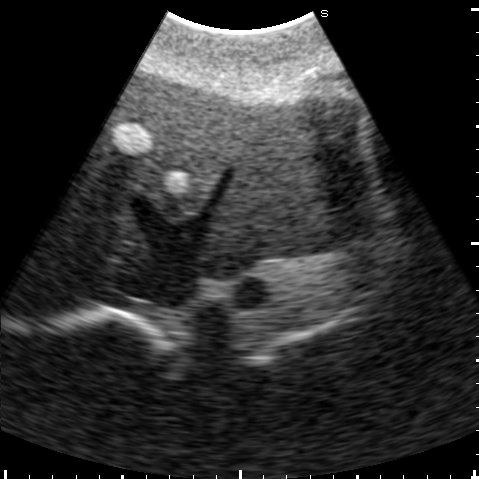S2: (198, 102, 335, 279)
S4: (95, 70, 251, 221)
S7: (25, 248, 90, 309)
S8: (55, 167, 146, 270)
Tumor: (113, 125, 154, 156), (164, 170, 188, 194)
